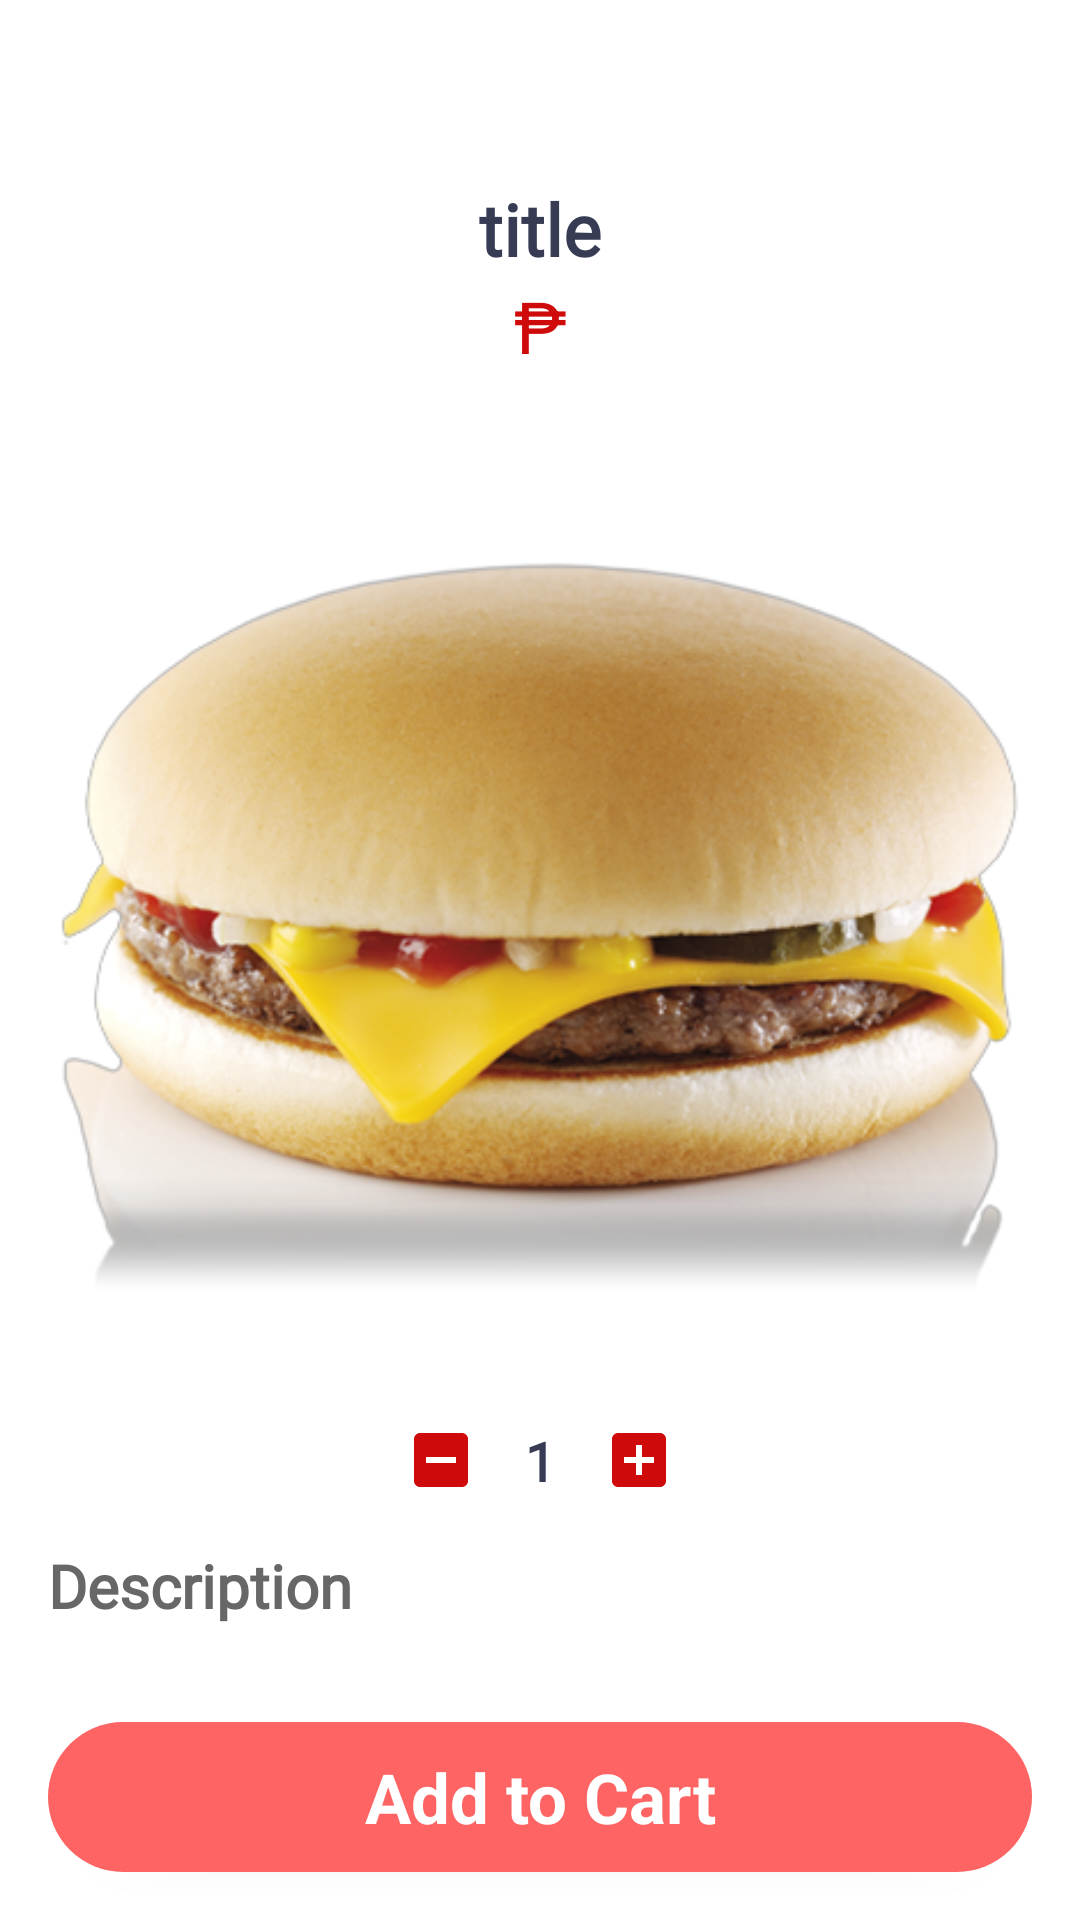

Named icons in this screenshot (1080 × 1920) and their bounding boxes, (x1, y1, x2, y2):
add: (612, 1433, 666, 1487)
minus: (414, 1433, 468, 1487)
